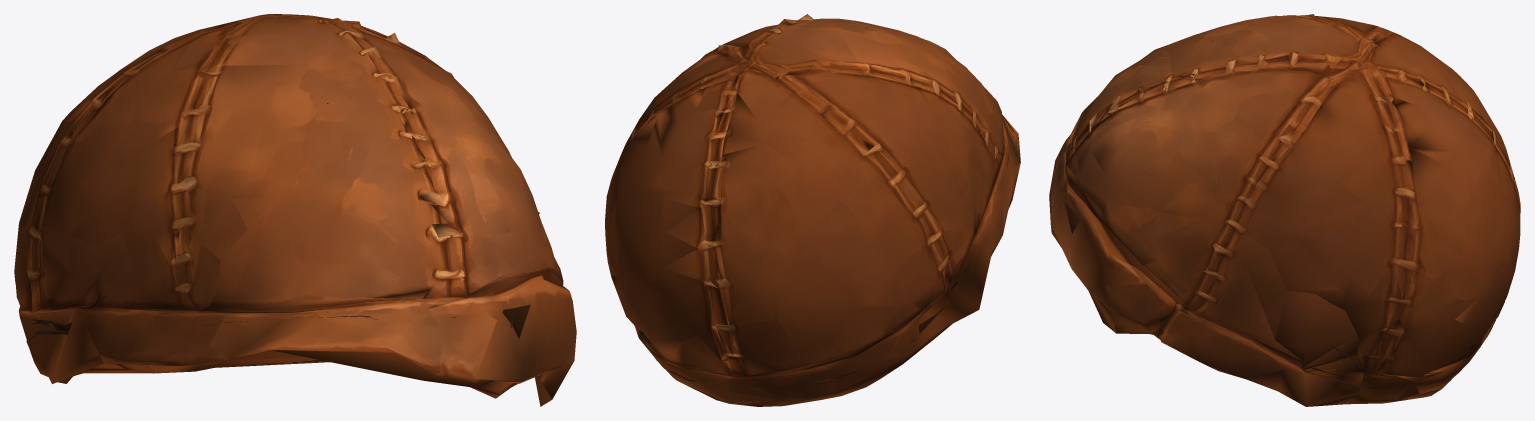
Rendered from leather_cap.glb.
3 renders of one model, left to right at view 1: azimuth 30°, elevation 25°; view 2: azimuth 150°, elevation 25°; view 3: azimuth 270°, elevation 25°, orthographic. The views are drawn at different scales.
Parts seen in each view (by area): view 1: leather_cap; view 2: leather_cap; view 3: leather_cap.
Part boxes in pixels (left/top/right/bottom): leather_cap: left=14, top=14, right=576, bottom=406; leather_cap: left=605, top=14, right=1020, bottom=406; leather_cap: left=1049, top=14, right=1520, bottom=406.
Size of the model in its own units: 0.2292 by 0.1969 by 0.2602.
Materials: 1 (1 with a texture image).
